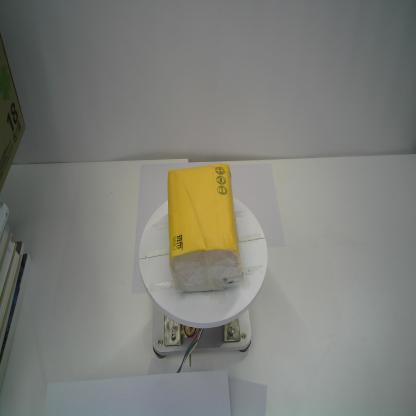Tissue: (166, 161, 242, 293)
